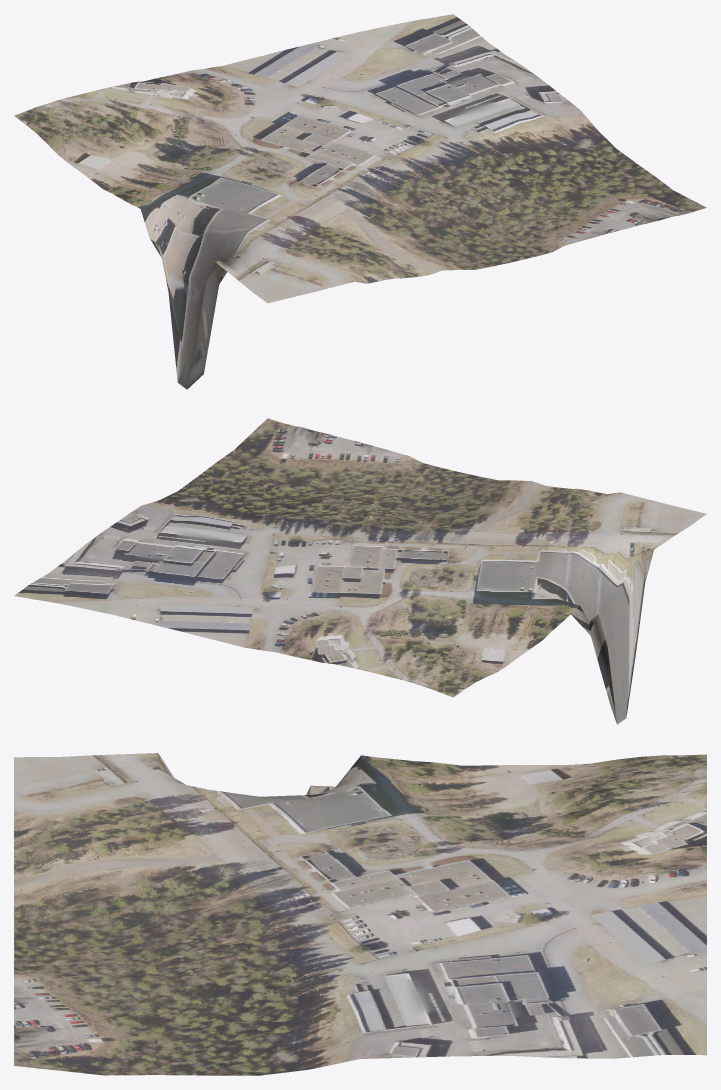
File: CM_Terrain_24492302_6815903.fbx
3 renders of one model, top to bottom at view 1: azimuth 30°, elevation 25°; view 2: azimuth 150°, elevation 25°; view 3: azimuth 270°, elevation 25°, orthographic. The views are drawn at different scales.
Parts seen in each view (by area): view 1: CM_Terrain_24492302_6815903_LOD0; view 2: CM_Terrain_24492302_6815903_LOD0; view 3: CM_Terrain_24492302_6815903_LOD0.
Part boxes in pixels (x1,y1,x2,y2): CM_Terrain_24492302_6815903_LOD0: (14, 14, 706, 389); CM_Terrain_24492302_6815903_LOD0: (14, 418, 706, 724); CM_Terrain_24492302_6815903_LOD0: (14, 753, 706, 1075).
Size of what is drawn, in the model's own units: 205 by 68.02 by 205.
